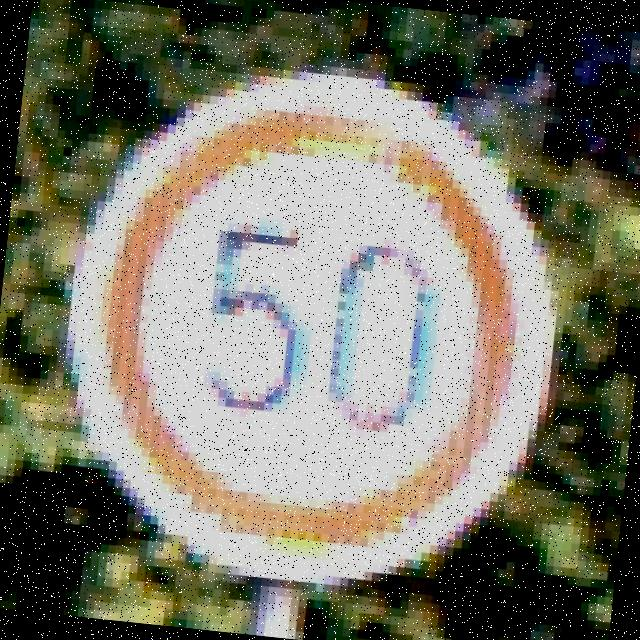Ograniczenie predkosci do 50: (86, 95, 534, 557)
